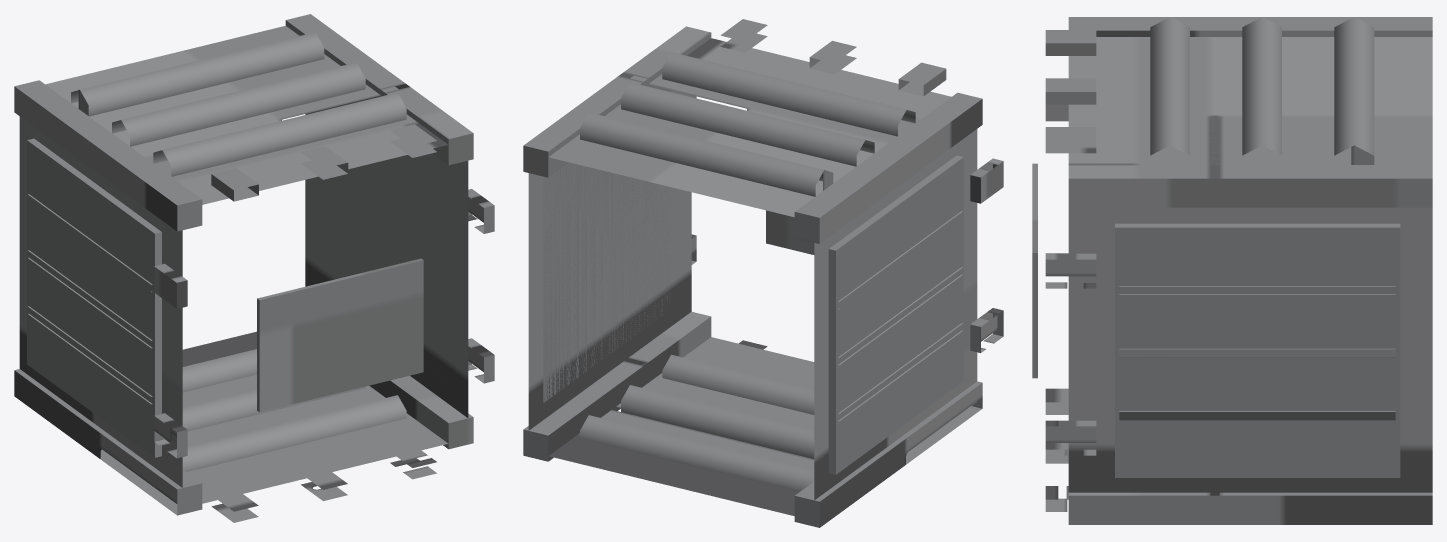
3 renders of one model, left to right at view 1: azimuth 30°, elevation 25°; view 2: azimuth 150°, elevation 25°; view 3: azimuth 270°, elevation 25°, orthographic. The views are drawn at different scales.
Bounding box in the file's own units: 0.89 × 0.91 × 0.869.
